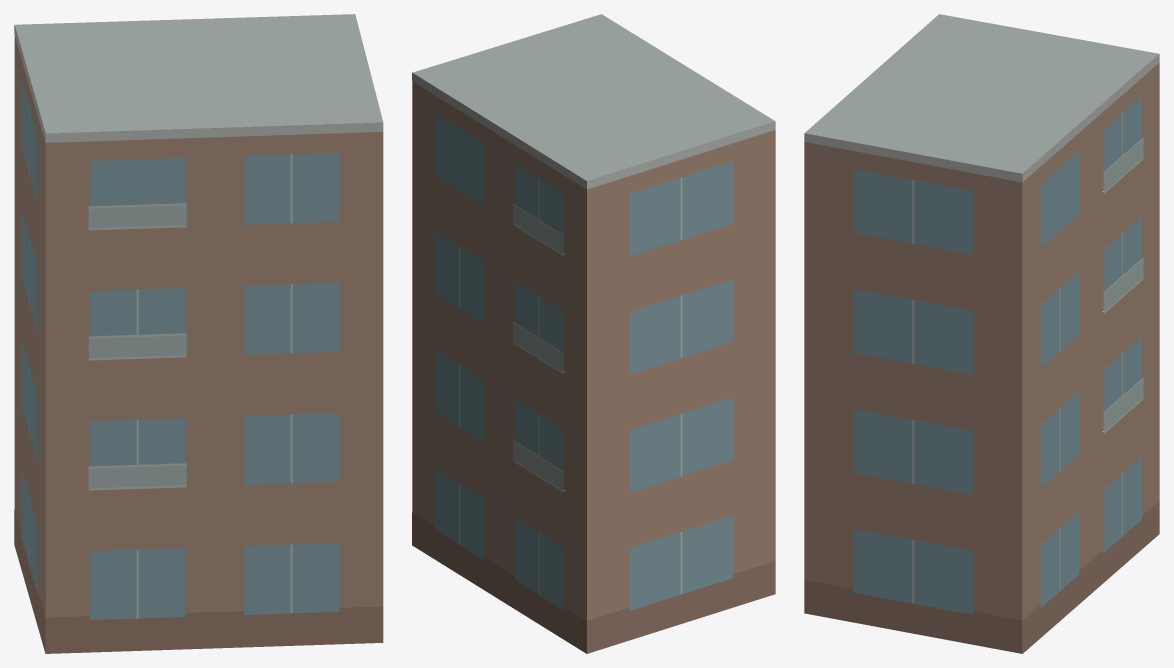
The model's file is survey-upis-32933422.glb.
3 renders of one model, left to right at view 1: azimuth 30°, elevation 25°; view 2: azimuth 150°, elevation 25°; view 3: azimuth 270°, elevation 25°, orthographic. The views are drawn at different scales.
Visible parts, largest first — view 1: survey-upis-32933422.tmp; view 2: survey-upis-32933422.tmp; view 3: survey-upis-32933422.tmp.
Boxes of the visible parts, x1,y1,x2,y2 form: survey-upis-32933422.tmp: (14,14,383,653); survey-upis-32933422.tmp: (412,14,775,653); survey-upis-32933422.tmp: (804,14,1159,653).
Bounding box in the file's own units: 9.71 × 13.6 × 9.13.
